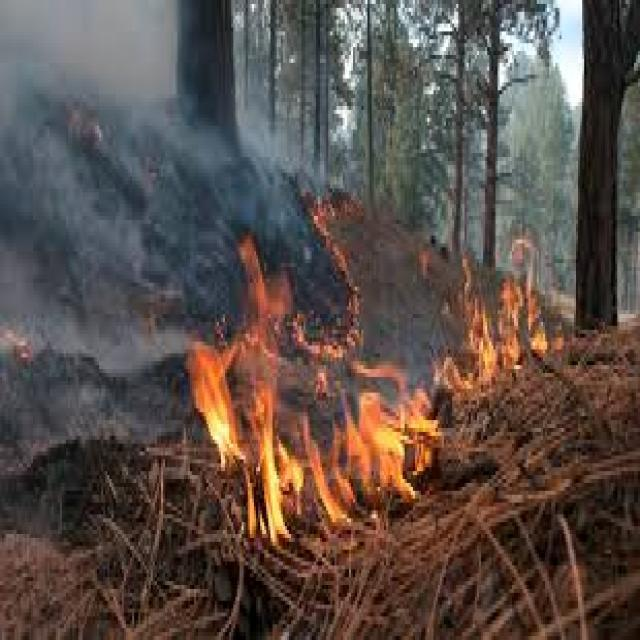Fire: (186, 332, 447, 538), (296, 373, 442, 533), (229, 226, 298, 536), (300, 189, 366, 367), (433, 258, 502, 404), (496, 230, 568, 367)
Smoke: (0, 0, 179, 409)
